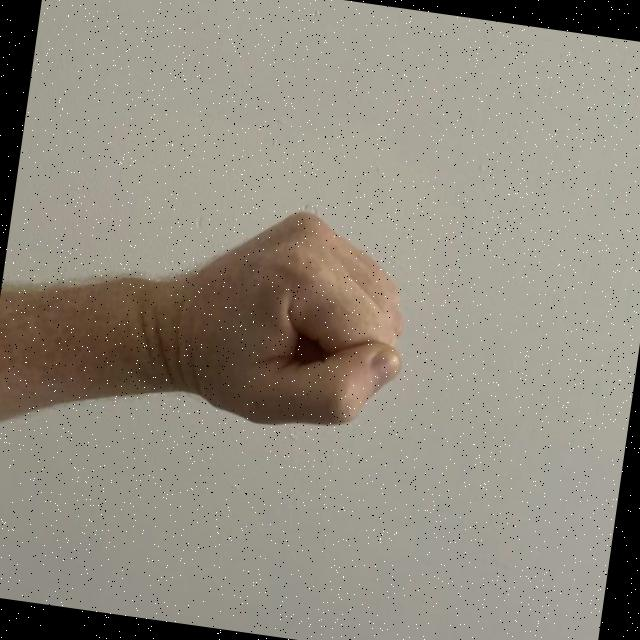rock: (98, 182, 424, 448)
